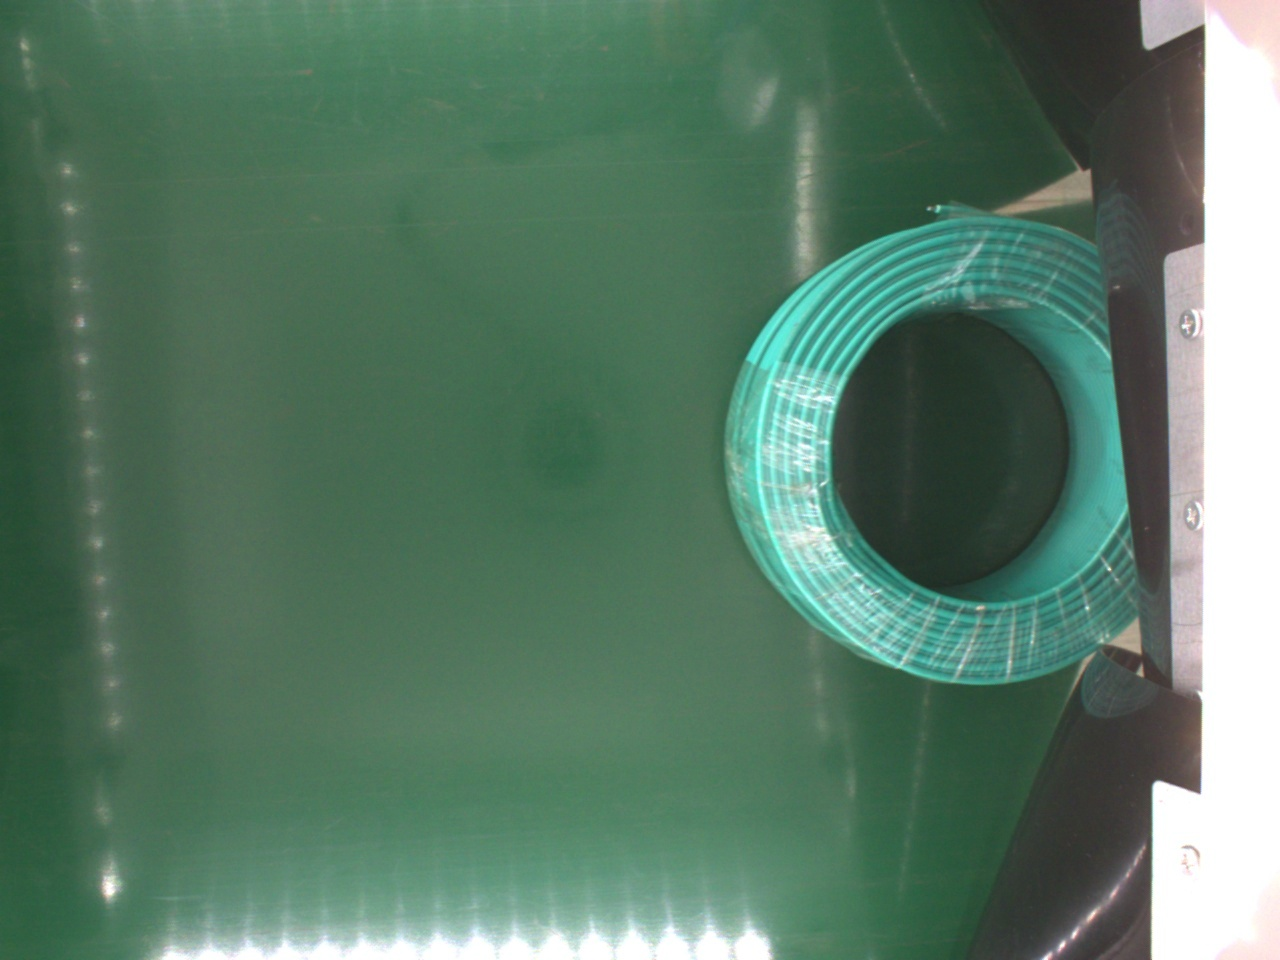green: (721, 200, 1156, 686)
